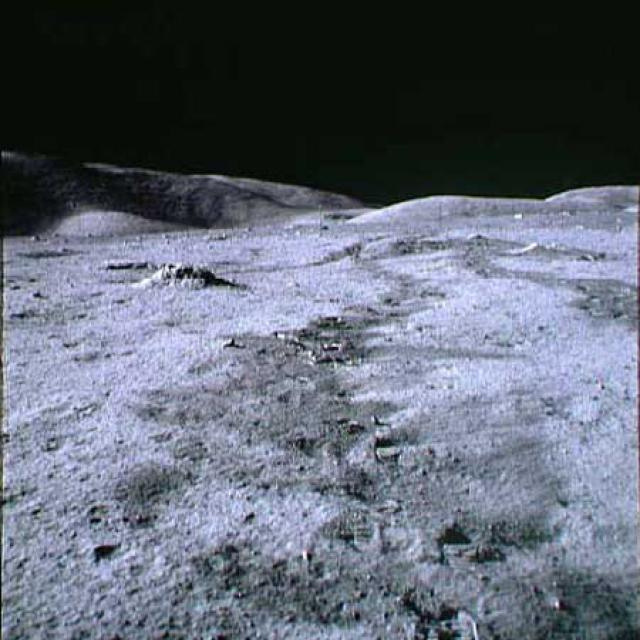crater: (23, 242, 86, 265), (100, 256, 154, 278)
rock: (128, 262, 242, 297)
